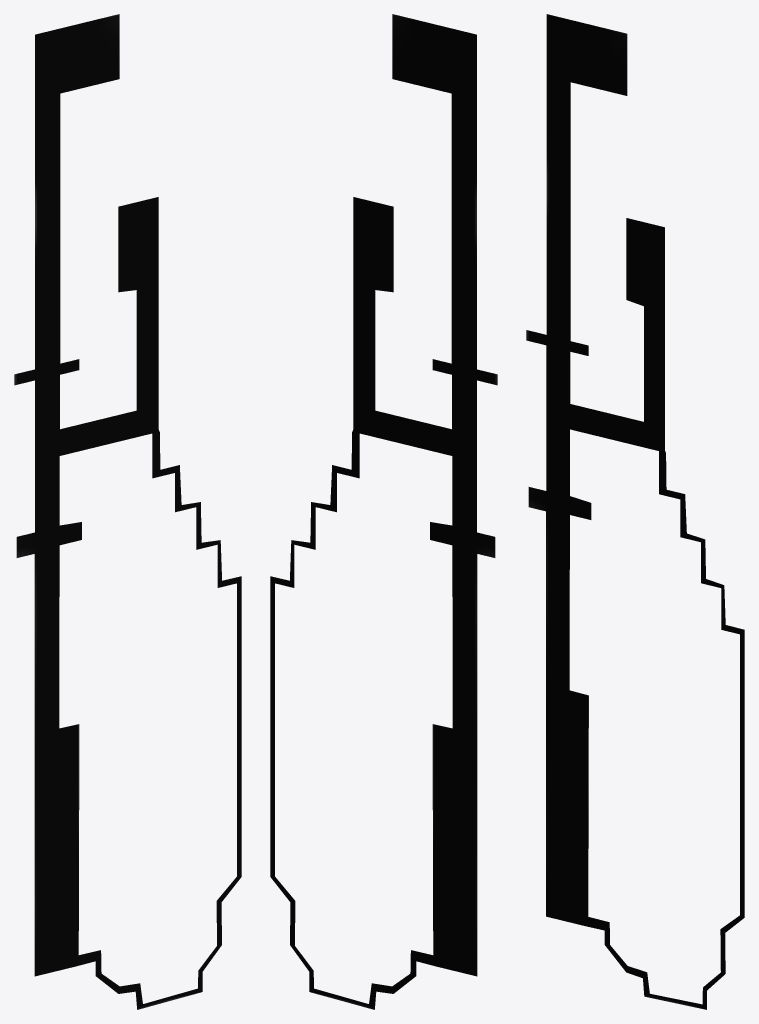
File: Shower.fbx
The picture shows the model from 3 angles, left to right: view 1: azimuth 30°, elevation 25°; view 2: azimuth 150°, elevation 25°; view 3: azimuth 330°, elevation 25°; orthographic projection. The views are drawn at different scales.
Parts seen in each view (by area): view 1: Shower; view 2: Shower; view 3: Shower.
Boxes of the visible parts, left/top/right/bottom form: Shower: left=14, top=14, right=241, bottom=1009; Shower: left=270, top=14, right=497, bottom=1009; Shower: left=526, top=14, right=744, bottom=1009.
Bounding box in the file's own units: 0.1202 × 0.5049 × 6.02e-08.
